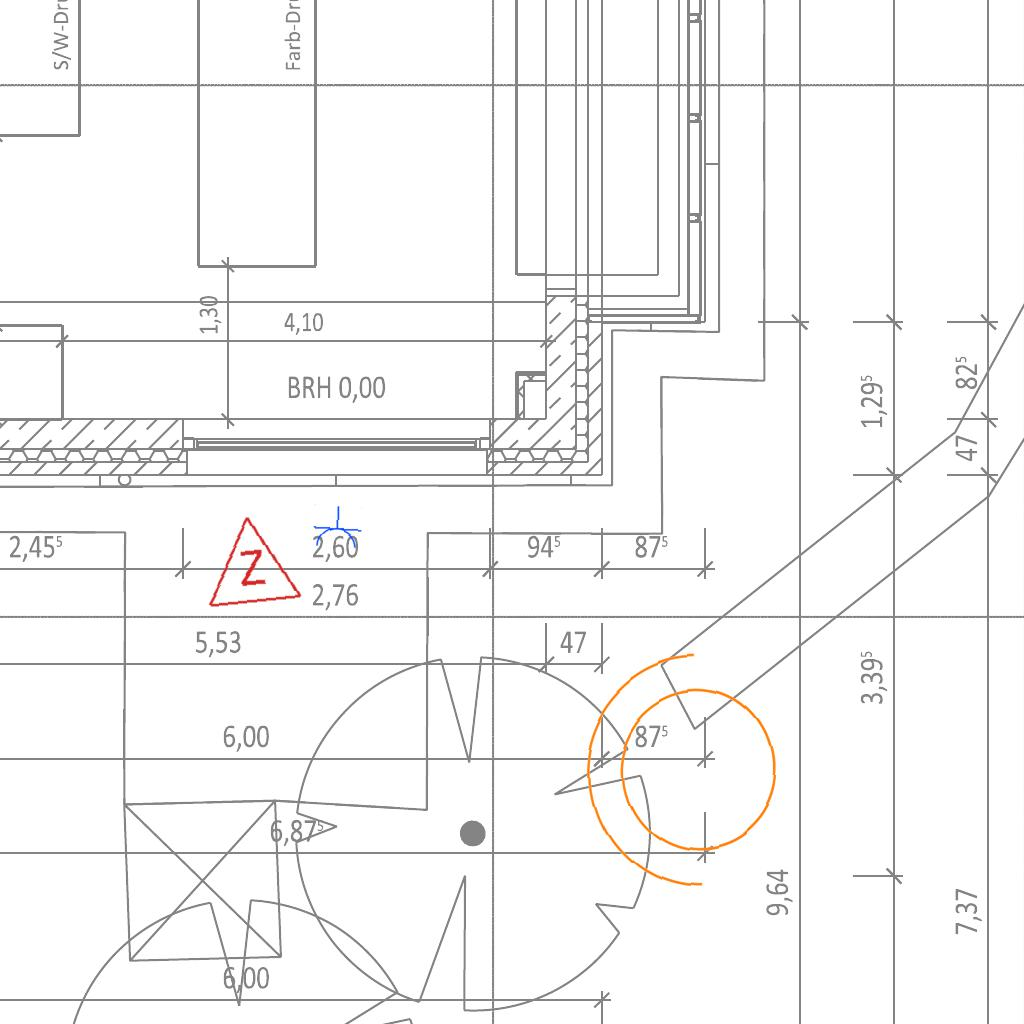Scheinwerfer_fuer_Alarmbeleuchtung: (571, 640, 807, 913)
Schukosteckdose_einfach: (310, 504, 364, 551)
Zimmersignalleuchte: (196, 505, 304, 615)
